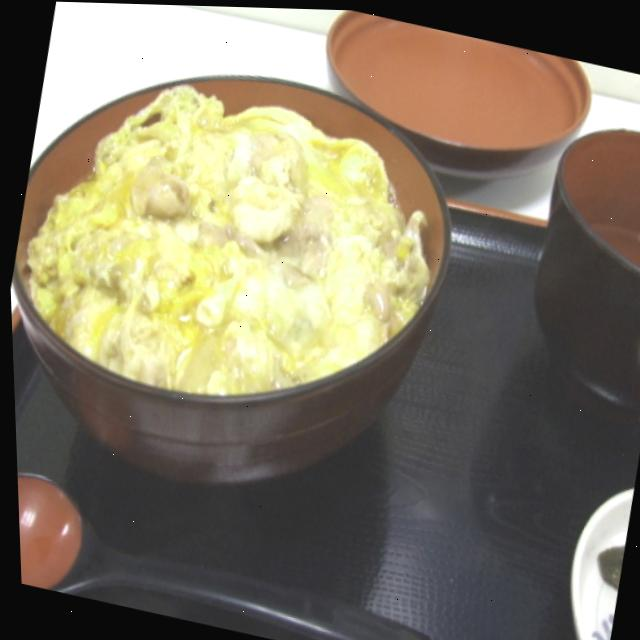米饭主食: (0, 14, 490, 549)
